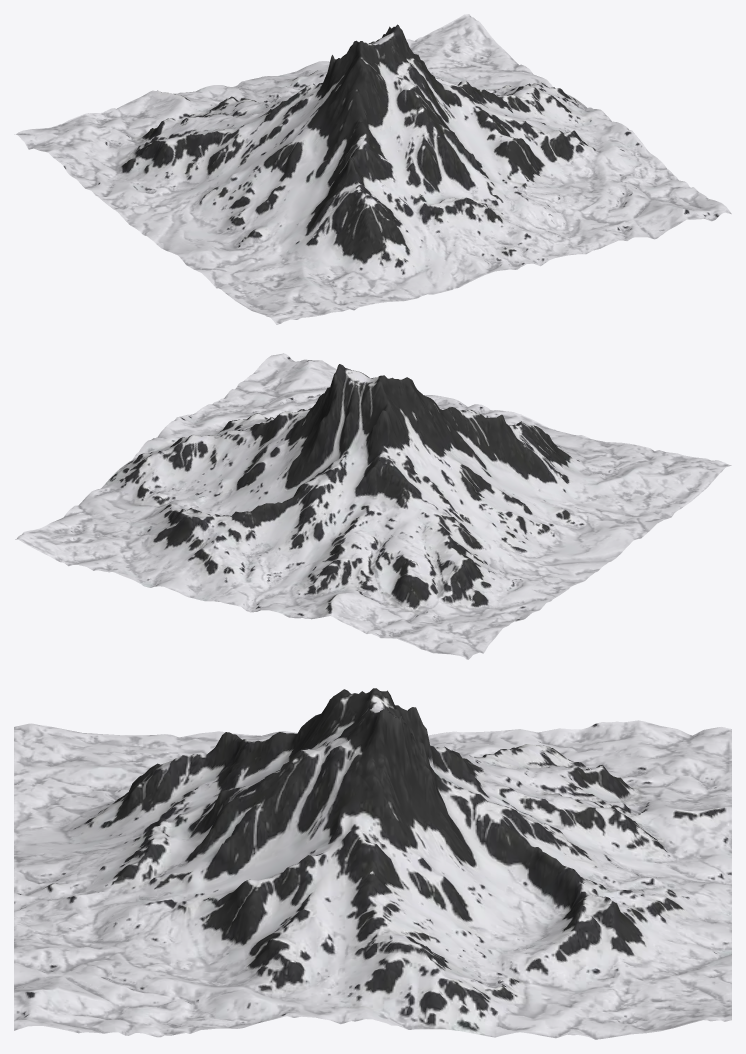
Rendered from snowy.glb.
3 views of the same model, one above another, from view 1: azimuth 30°, elevation 25°; view 2: azimuth 150°, elevation 25°; view 3: azimuth 270°, elevation 25° (orthographic). The views are drawn at different scales.
Parts seen in each view (by area): view 1: Snow_Mountain_001_Snowy_Mountain_001_0; view 2: Snow_Mountain_001_Snowy_Mountain_001_0; view 3: Snow_Mountain_001_Snowy_Mountain_001_0.
Boxes of the visible parts, x1,y1,x2,y2 form: Snow_Mountain_001_Snowy_Mountain_001_0: (14,14,731,324); Snow_Mountain_001_Snowy_Mountain_001_0: (15,353,731,659); Snow_Mountain_001_Snowy_Mountain_001_0: (14,688,731,1039).
Size of the model in its own units: 2 by 0.6129 by 2.
Materials: 1 (1 with a texture image).
